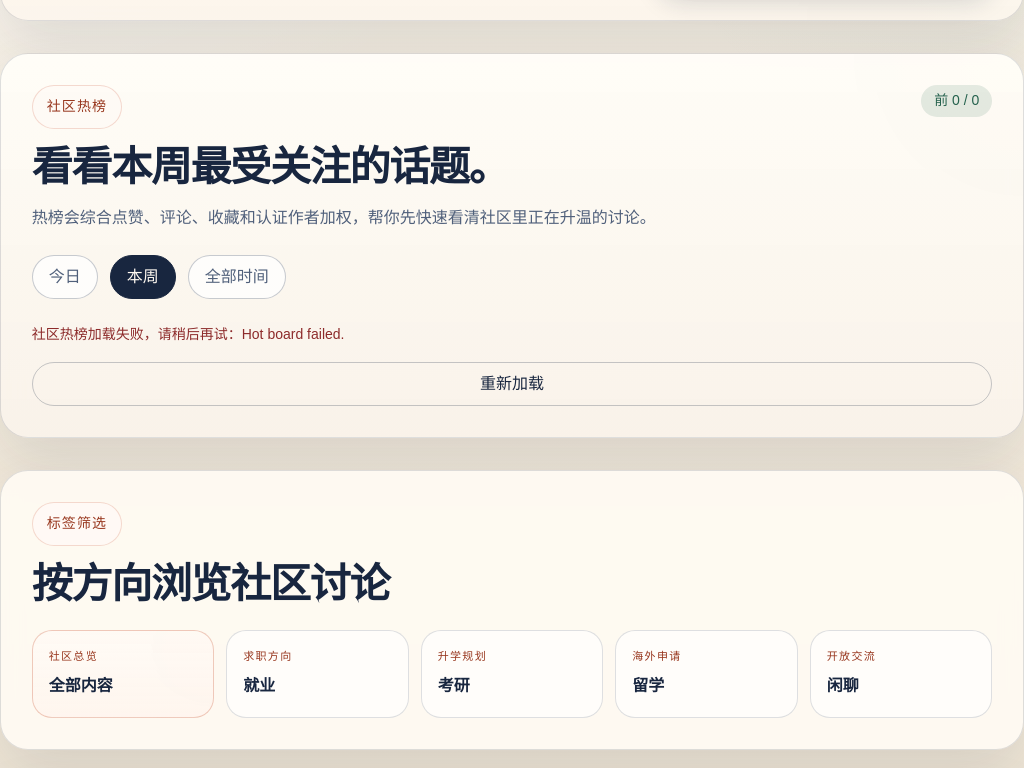
hot board error state can retry
This screenshot has width=1024, height=768.
(page scrolled)
Click the button with class "retry-hot-board".
click(512, 384)  # box [32,362,992,406]
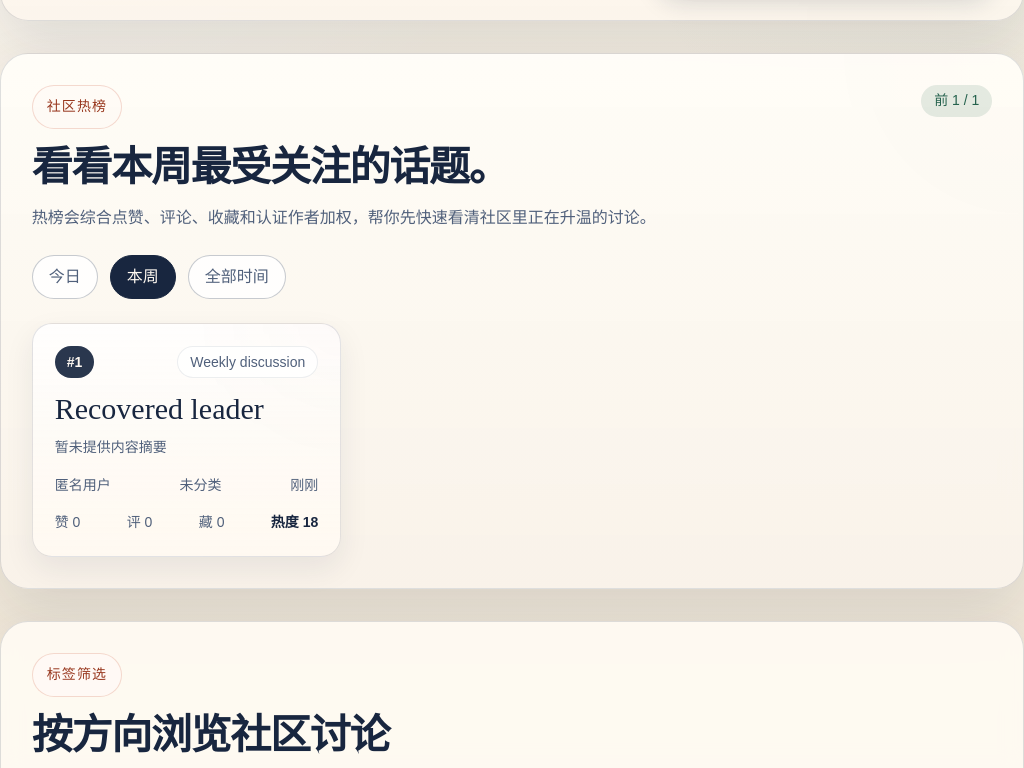
Result: the text "Recovered leader" is shown at [55,392,264,425]
